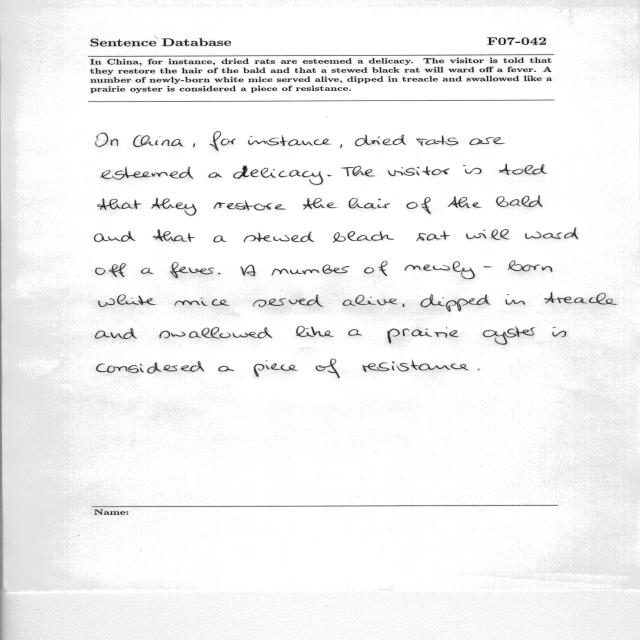word: (405, 261, 553, 279), (233, 165, 323, 185), (97, 361, 204, 373), (363, 360, 469, 372), (159, 327, 273, 338), (421, 294, 490, 312), (387, 327, 459, 344), (101, 167, 194, 180), (544, 292, 617, 305), (483, 327, 535, 345), (248, 135, 331, 146), (272, 265, 350, 276), (253, 295, 323, 307), (214, 200, 286, 211), (151, 198, 196, 215), (99, 294, 156, 307), (333, 231, 394, 243), (254, 360, 297, 377), (170, 262, 215, 278), (244, 232, 314, 242), (388, 167, 450, 177), (134, 135, 185, 147), (343, 295, 397, 306), (525, 228, 578, 239), (355, 135, 406, 146), (153, 229, 195, 242), (210, 131, 237, 151), (499, 164, 547, 175), (98, 198, 141, 210), (497, 196, 543, 207), (466, 229, 509, 240), (94, 231, 136, 242), (95, 328, 137, 339), (316, 359, 340, 378), (349, 198, 390, 209), (175, 298, 229, 306), (406, 197, 431, 214), (416, 136, 458, 146), (96, 263, 126, 277), (296, 326, 334, 337), (448, 196, 481, 208), (341, 166, 375, 177), (416, 230, 450, 241), (303, 198, 336, 209), (364, 261, 388, 276), (96, 133, 118, 147), (469, 137, 505, 145), (506, 294, 525, 305), (463, 165, 482, 174), (241, 265, 256, 276), (552, 327, 566, 337), (348, 329, 362, 336), (219, 366, 234, 372), (208, 172, 222, 178), (214, 236, 226, 243), (141, 268, 153, 274), (194, 143, 196, 148), (340, 145, 342, 149), (403, 304, 405, 307), (328, 175, 332, 176), (478, 369, 480, 371), (218, 273, 220, 274)
